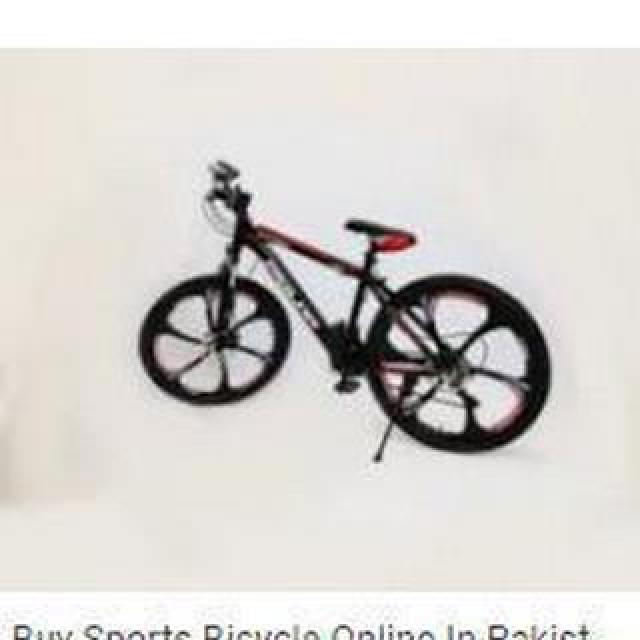Person: (133, 160, 555, 462)
